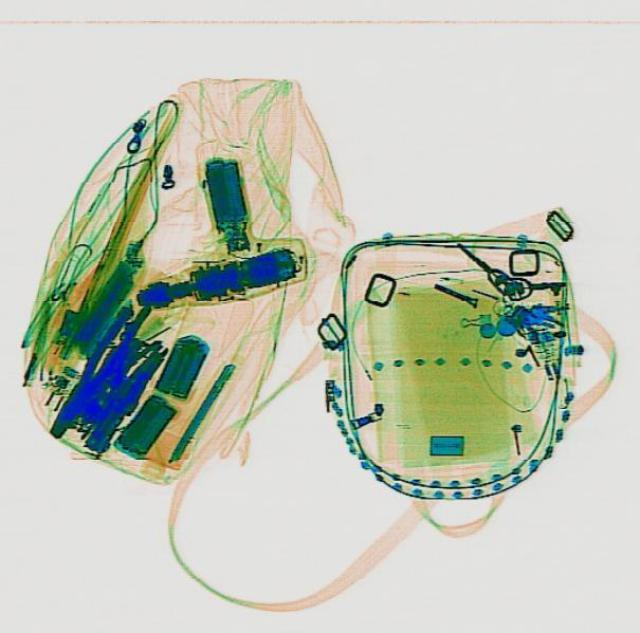Pliers: (53, 294, 153, 421)
